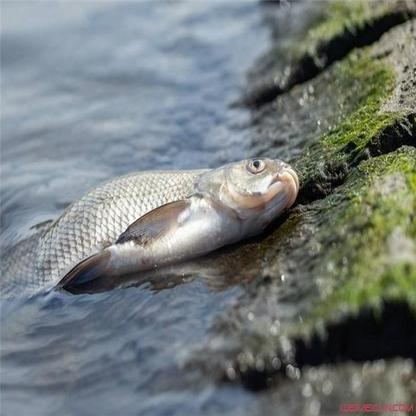deceased fish: (29, 152, 302, 289)
